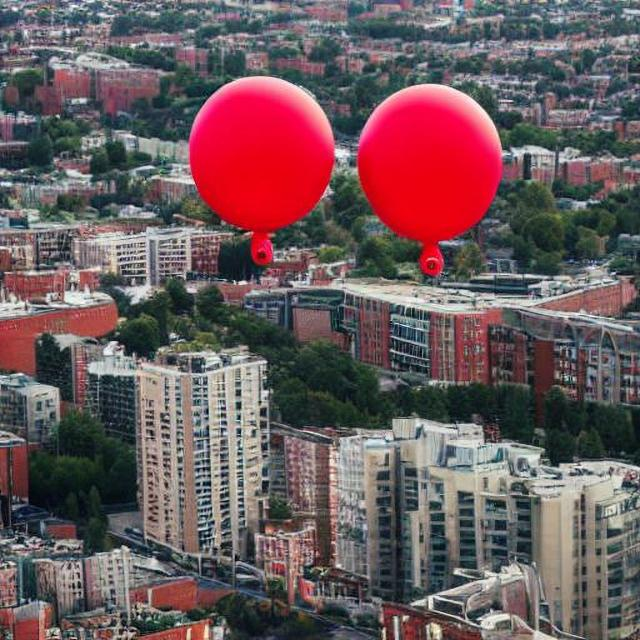balloon: (182, 74, 332, 270), (350, 83, 500, 277)
